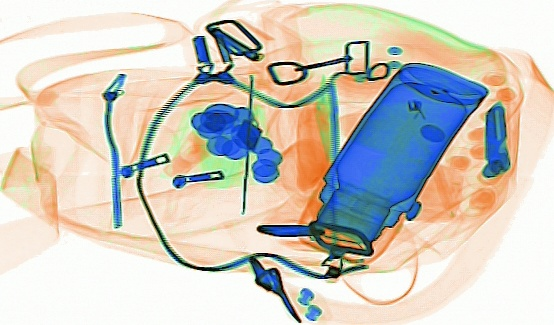knife: (482, 99, 510, 174)
